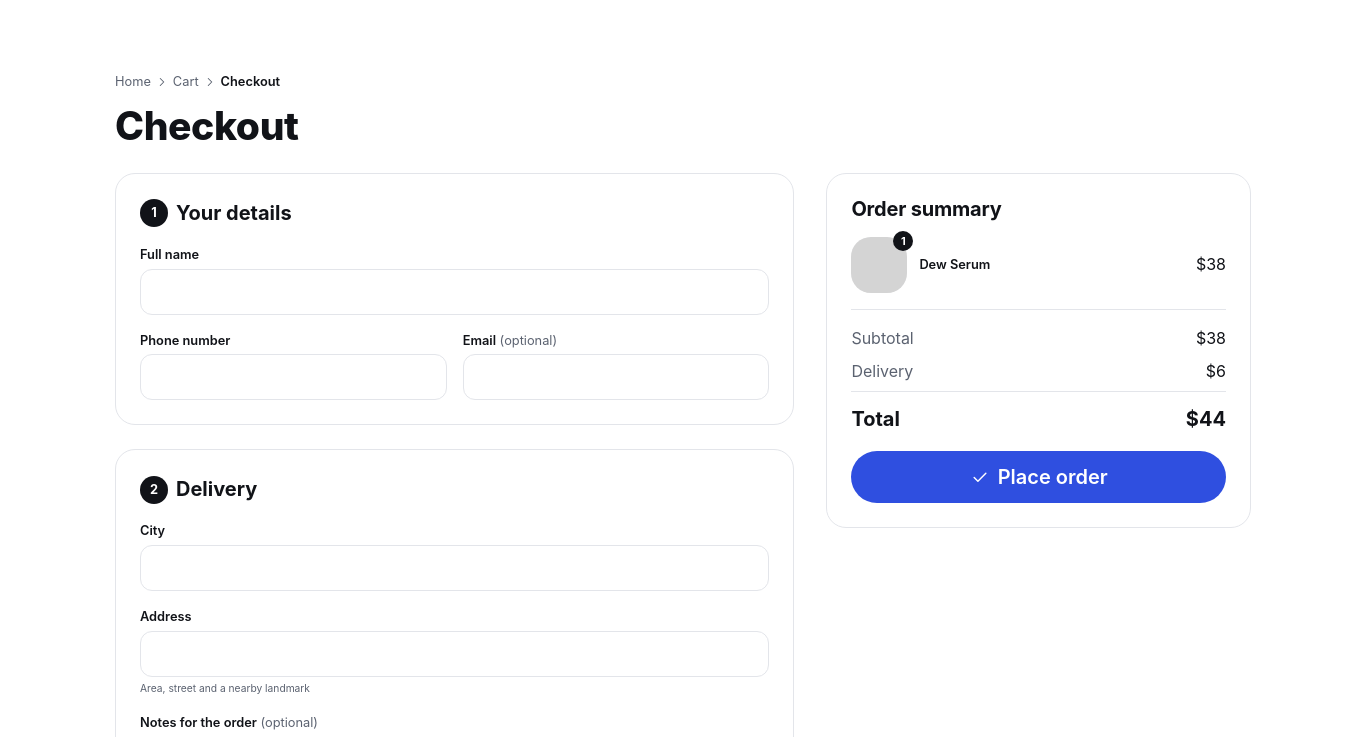
Test: checkout › sends the order, empties the cart and shows the order number
Type "Sara Ali" into the field labelled "Full name" at (455, 292), box [140,269,769,315]
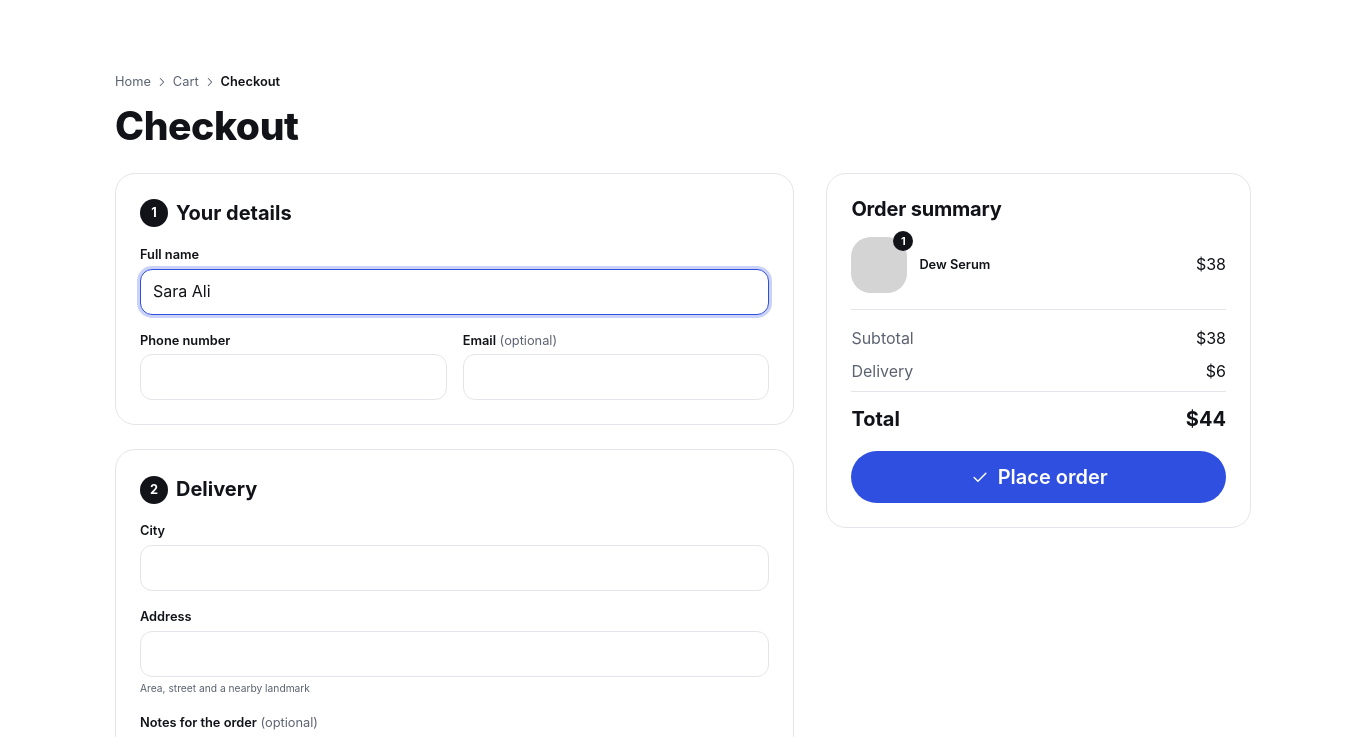
Type "+1 555 0100" into the field labelled "Phone number" at (293, 377), box [140,354,447,400]
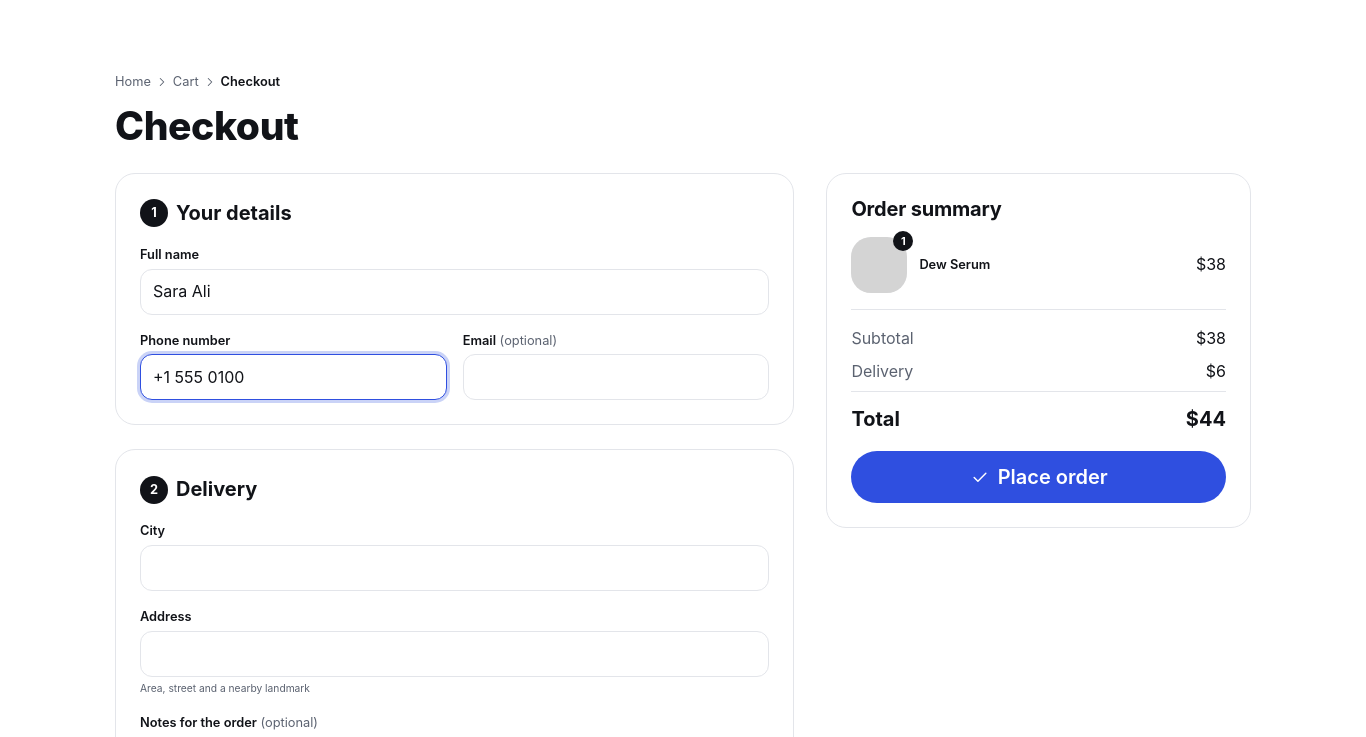
Type "Riverside" into the field labelled "City" at (455, 568), box [140,545,769,591]
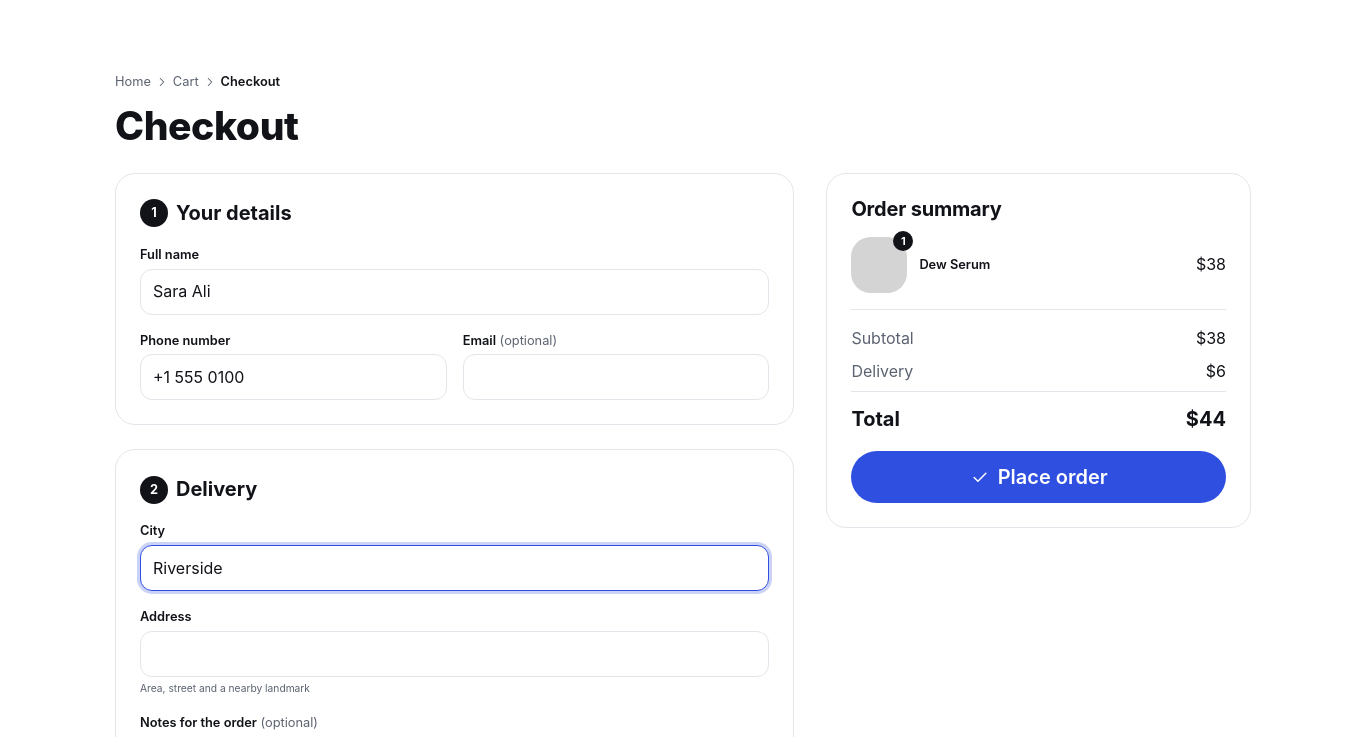
Type "12 Market Street" into the field labelled "Address" at (455, 654), box [140,631,769,677]
(page scrolled)
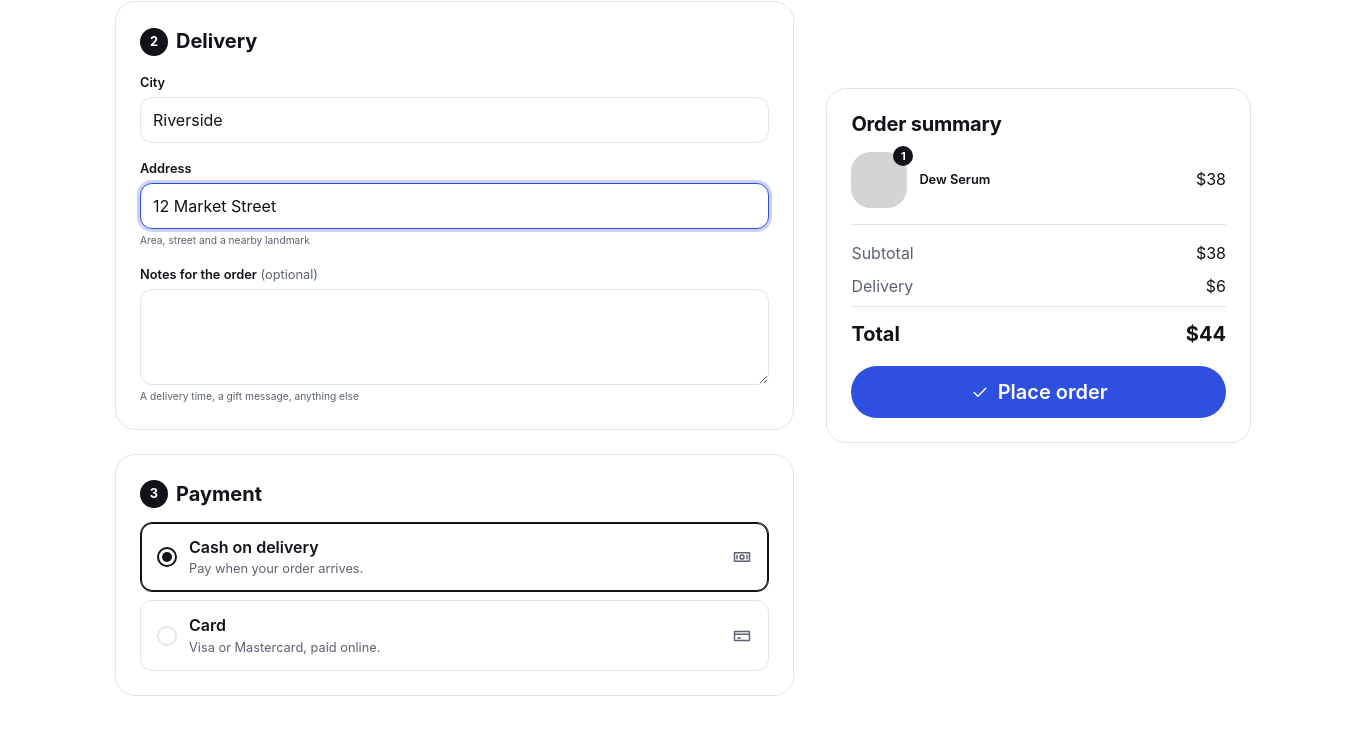
Click the radio button labelled "Card Visa or Mastercard, paid online." at (207, 625), box [140,600,769,671]
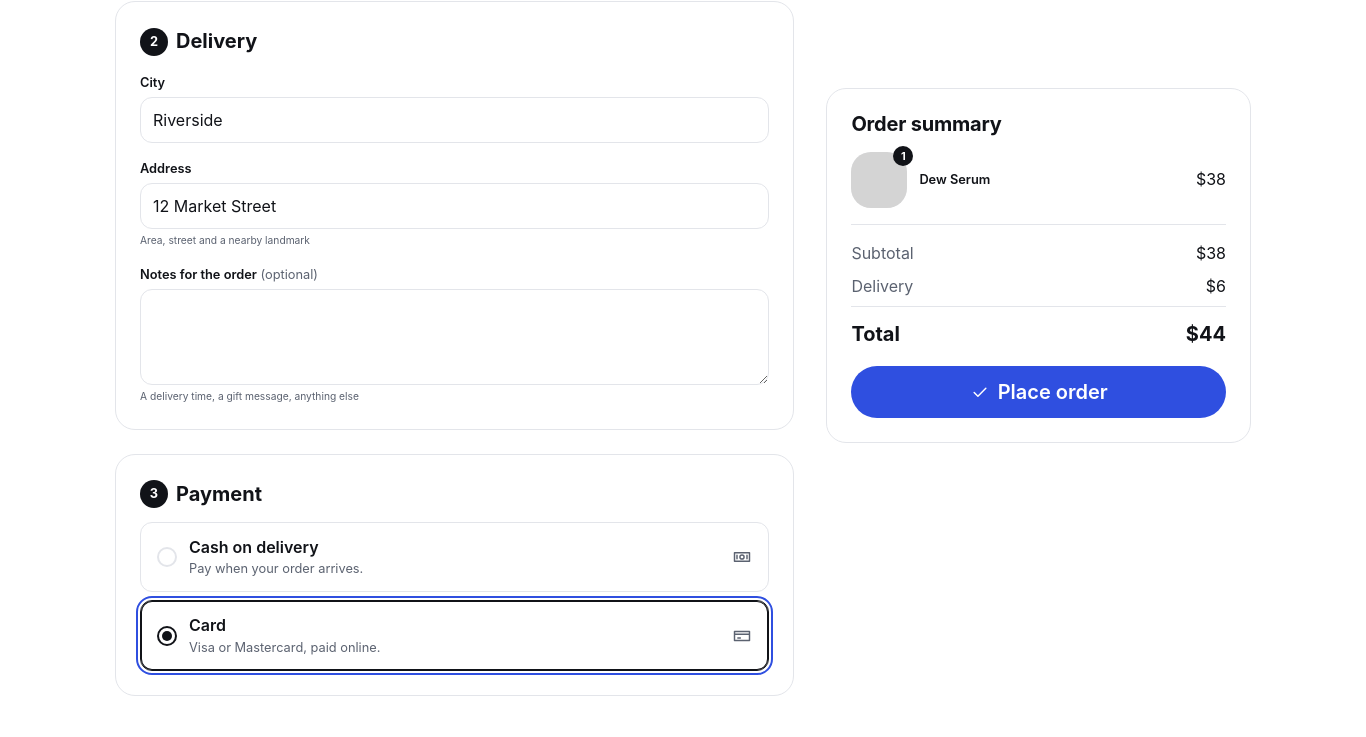
Click the button "Place order" at (1039, 393), box [851,367,1226,419]
(page scrolled)
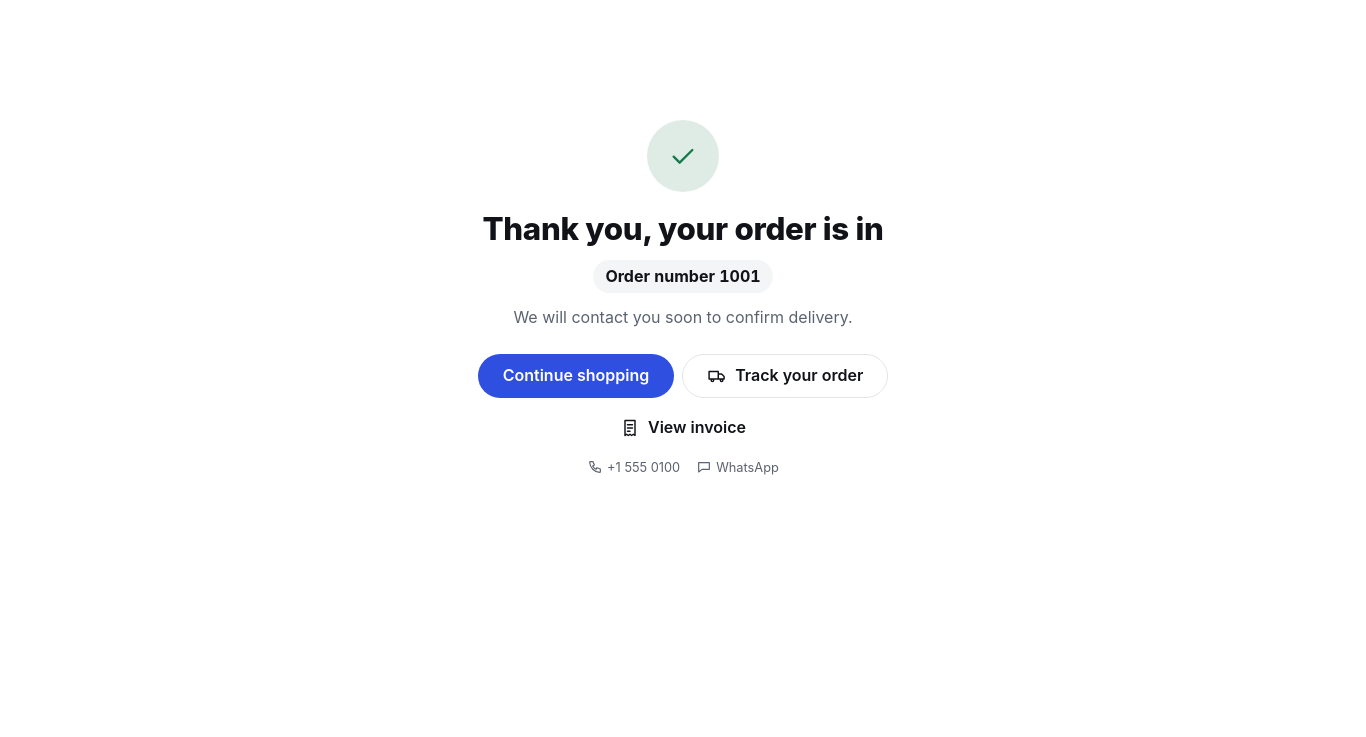
Now the heading "Thank you, your order is in" is shown, box [482,212,884,248]
Now the text "Order number 1001" is shown, box [593,260,773,293]
